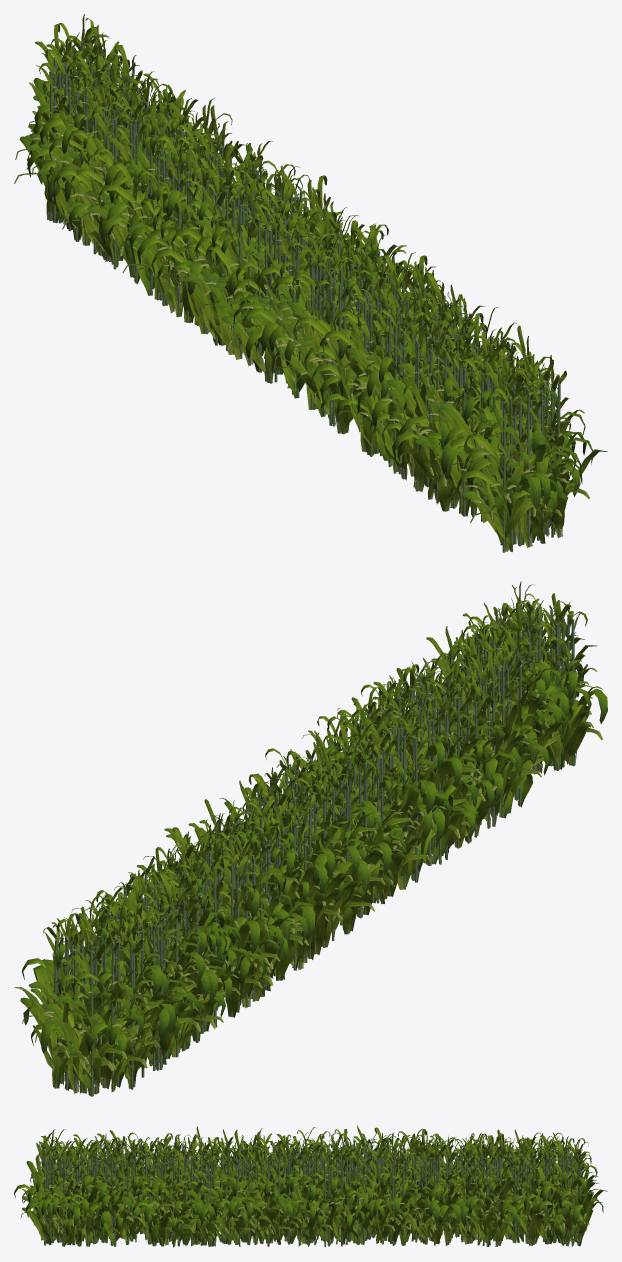
The model's file is milharal4x50_denso.fbx.
3 renders of one model, top to bottom at view 1: azimuth 30°, elevation 25°; view 2: azimuth 150°, elevation 25°; view 3: azimuth 270°, elevation 25°, orthographic. The views are drawn at different scales.
Visible parts, largest first — view 1: Plantacao2; view 2: Plantacao2; view 3: Plantacao2.
Boxes of the visible parts, <box> form: Plantacao2: <box>14,14,607,552</box>; Plantacao2: <box>14,581,607,1096</box>; Plantacao2: <box>14,1125,607,1247</box>.
Bounding box in the file's own units: 920 × 1057 × 5505.
